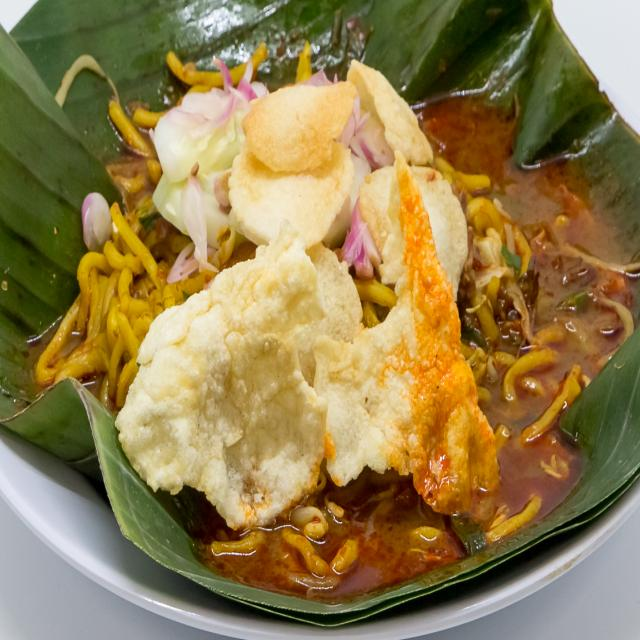Mie-Aceh: (29, 23, 633, 592)
